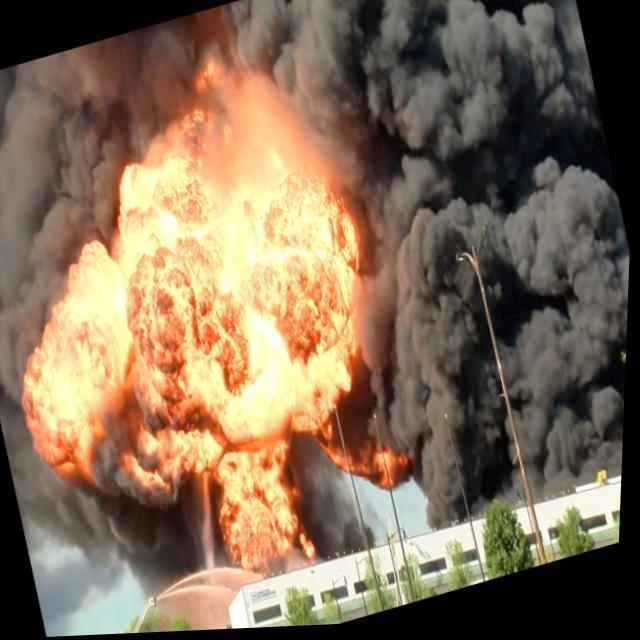fire: (1, 40, 452, 640)
